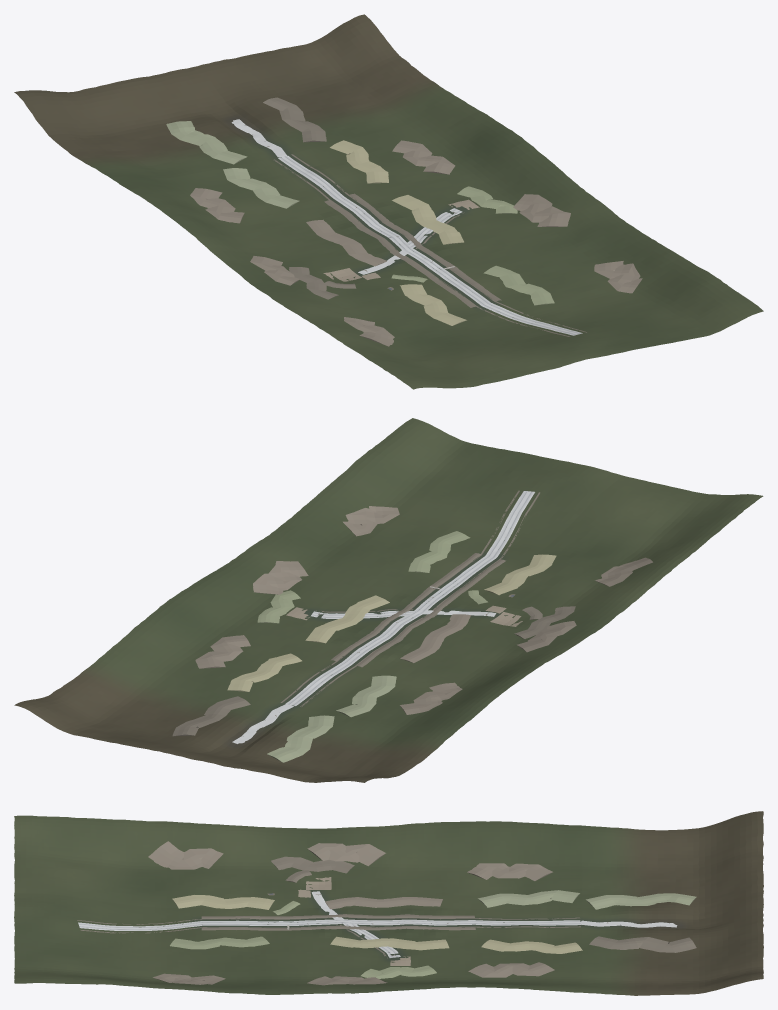
The model's file is agentb_terrain_road_kit.glb.
3 views of the same model, one above another, from view 1: azimuth 30°, elevation 25°; view 2: azimuth 150°, elevation 25°; view 3: azimuth 270°, elevation 25° (orthographic). The views are drawn at different scales.
Visible parts, largest first — view 1: Terrain_Main, Road_Main, Grade_Kara_West, Ditch_FieldBank_EastStreet, Grade_Street_East, Grade_Zirat_West, Grade_Kara_East, Ditch_FieldBank_EastZirat, Grade_Zirat_East, Grade_Street_West, Ditch_FieldBank_EastArrival, Grade_Arrival_West (+7 smaller); view 2: Terrain_Main, Road_Main, Grade_Kara_West, Ditch_FieldBank_EastStreet, Grade_Street_East, Grade_Zirat_West, Ditch_FieldBank_EastZirat, Grade_Street_West, Ditch_FieldBank_EastArrival, Grade_Kara_East, Grade_Zirat_East, Grade_Arrival_West (+8 smaller); view 3: Terrain_Main, Road_Main, Ditch_FieldBank_WestArrival, Grade_Kara_East, Ditch_FieldBank_WestStreet, Grade_Kara_West, Grade_Arrival_West, Ditch_FieldBank_WestZirat, Grade_Zirat_West, Grade_Street_East, Grade_Street_West, MudStrip_East (+12 smaller).
Part boxes in pixels (x1,y1,x2,y2): Terrain_Main: [14, 14, 763, 389]; Road_Main: [278, 155, 582, 335]; Grade_Kara_West: [166, 121, 247, 164]; Ditch_FieldBank_EastStreet: [513, 194, 570, 226]; Grade_Street_East: [392, 195, 463, 244]; Grade_Zirat_West: [223, 168, 299, 208]; Grade_Kara_East: [263, 97, 326, 142]; Ditch_FieldBank_EastZirat: [392, 140, 455, 174]; Grade_Zirat_East: [330, 140, 388, 183]; Grade_Street_West: [306, 219, 386, 266]; Ditch_FieldBank_EastArrival: [594, 261, 642, 293]; Grade_Arrival_West: [400, 284, 466, 325]; Terrain_Main: [14, 418, 763, 782]; Road_Main: [285, 491, 534, 705]; Grade_Kara_West: [267, 715, 334, 762]; Ditch_FieldBank_EastStreet: [253, 561, 308, 594]; Grade_Street_East: [305, 595, 389, 643]; Grade_Zirat_West: [336, 675, 396, 717]; Ditch_FieldBank_EastZirat: [195, 635, 250, 668]; Grade_Street_West: [400, 614, 470, 662]; Ditch_FieldBank_EastArrival: [343, 506, 399, 536]; Grade_Kara_East: [172, 696, 250, 736]; Grade_Zirat_East: [227, 653, 301, 691]; Grade_Arrival_West: [484, 554, 556, 595]; Terrain_Main: [14, 811, 763, 995]; Road_Main: [78, 919, 580, 930]; Ditch_FieldBank_WestArrival: [148, 841, 223, 869]; Grade_Kara_East: [589, 936, 696, 952]; Ditch_FieldBank_WestStreet: [307, 843, 385, 866]; Grade_Kara_West: [586, 893, 696, 909]; Grade_Arrival_West: [172, 895, 274, 909]; Ditch_FieldBank_WestZirat: [467, 863, 552, 880]; Grade_Zirat_West: [478, 890, 579, 907]; Grade_Street_East: [330, 936, 449, 950]; Grade_Street_West: [325, 897, 442, 909]; MudStrip_East: [201, 914, 474, 919].
Size of the model in its own units: 130 by 13.21 by 256.
